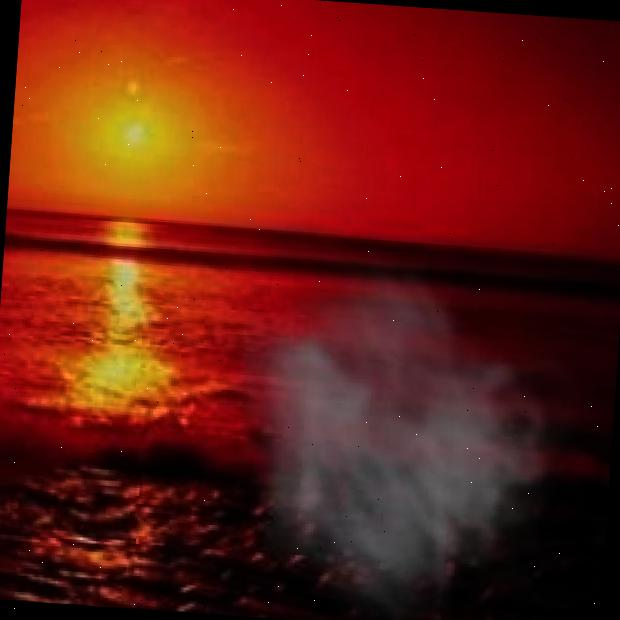smoke: (221, 235, 602, 620)
